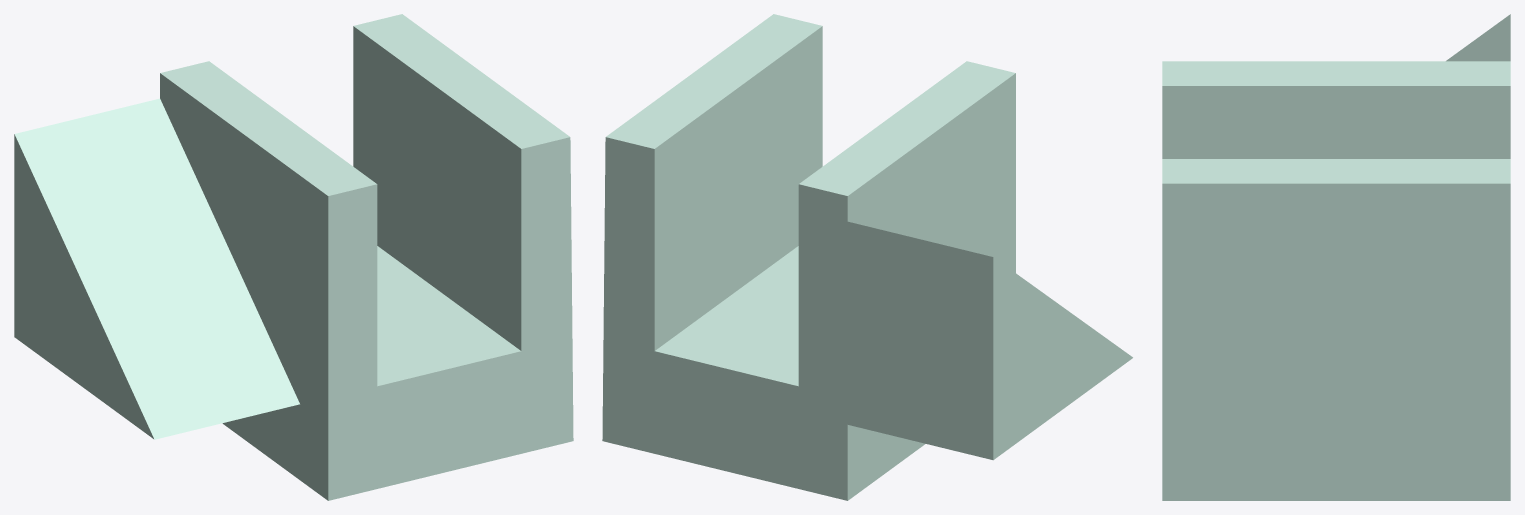
3 renders of one model, left to right at view 1: azimuth 30°, elevation 25°; view 2: azimuth 150°, elevation 25°; view 3: azimuth 270°, elevation 25°, orthographic. The views are drawn at different scales.
Visible parts, largest first — view 1: Renderer Node; view 2: Renderer Node; view 3: Renderer Node.
Part boxes in pixels (x1,y1,x2,y2): Renderer Node: (14, 14, 573, 500); Renderer Node: (602, 14, 1132, 500); Renderer Node: (1162, 14, 1510, 500).
Bounding box in the file's own units: 1.01 × 0.75 × 0.75.
